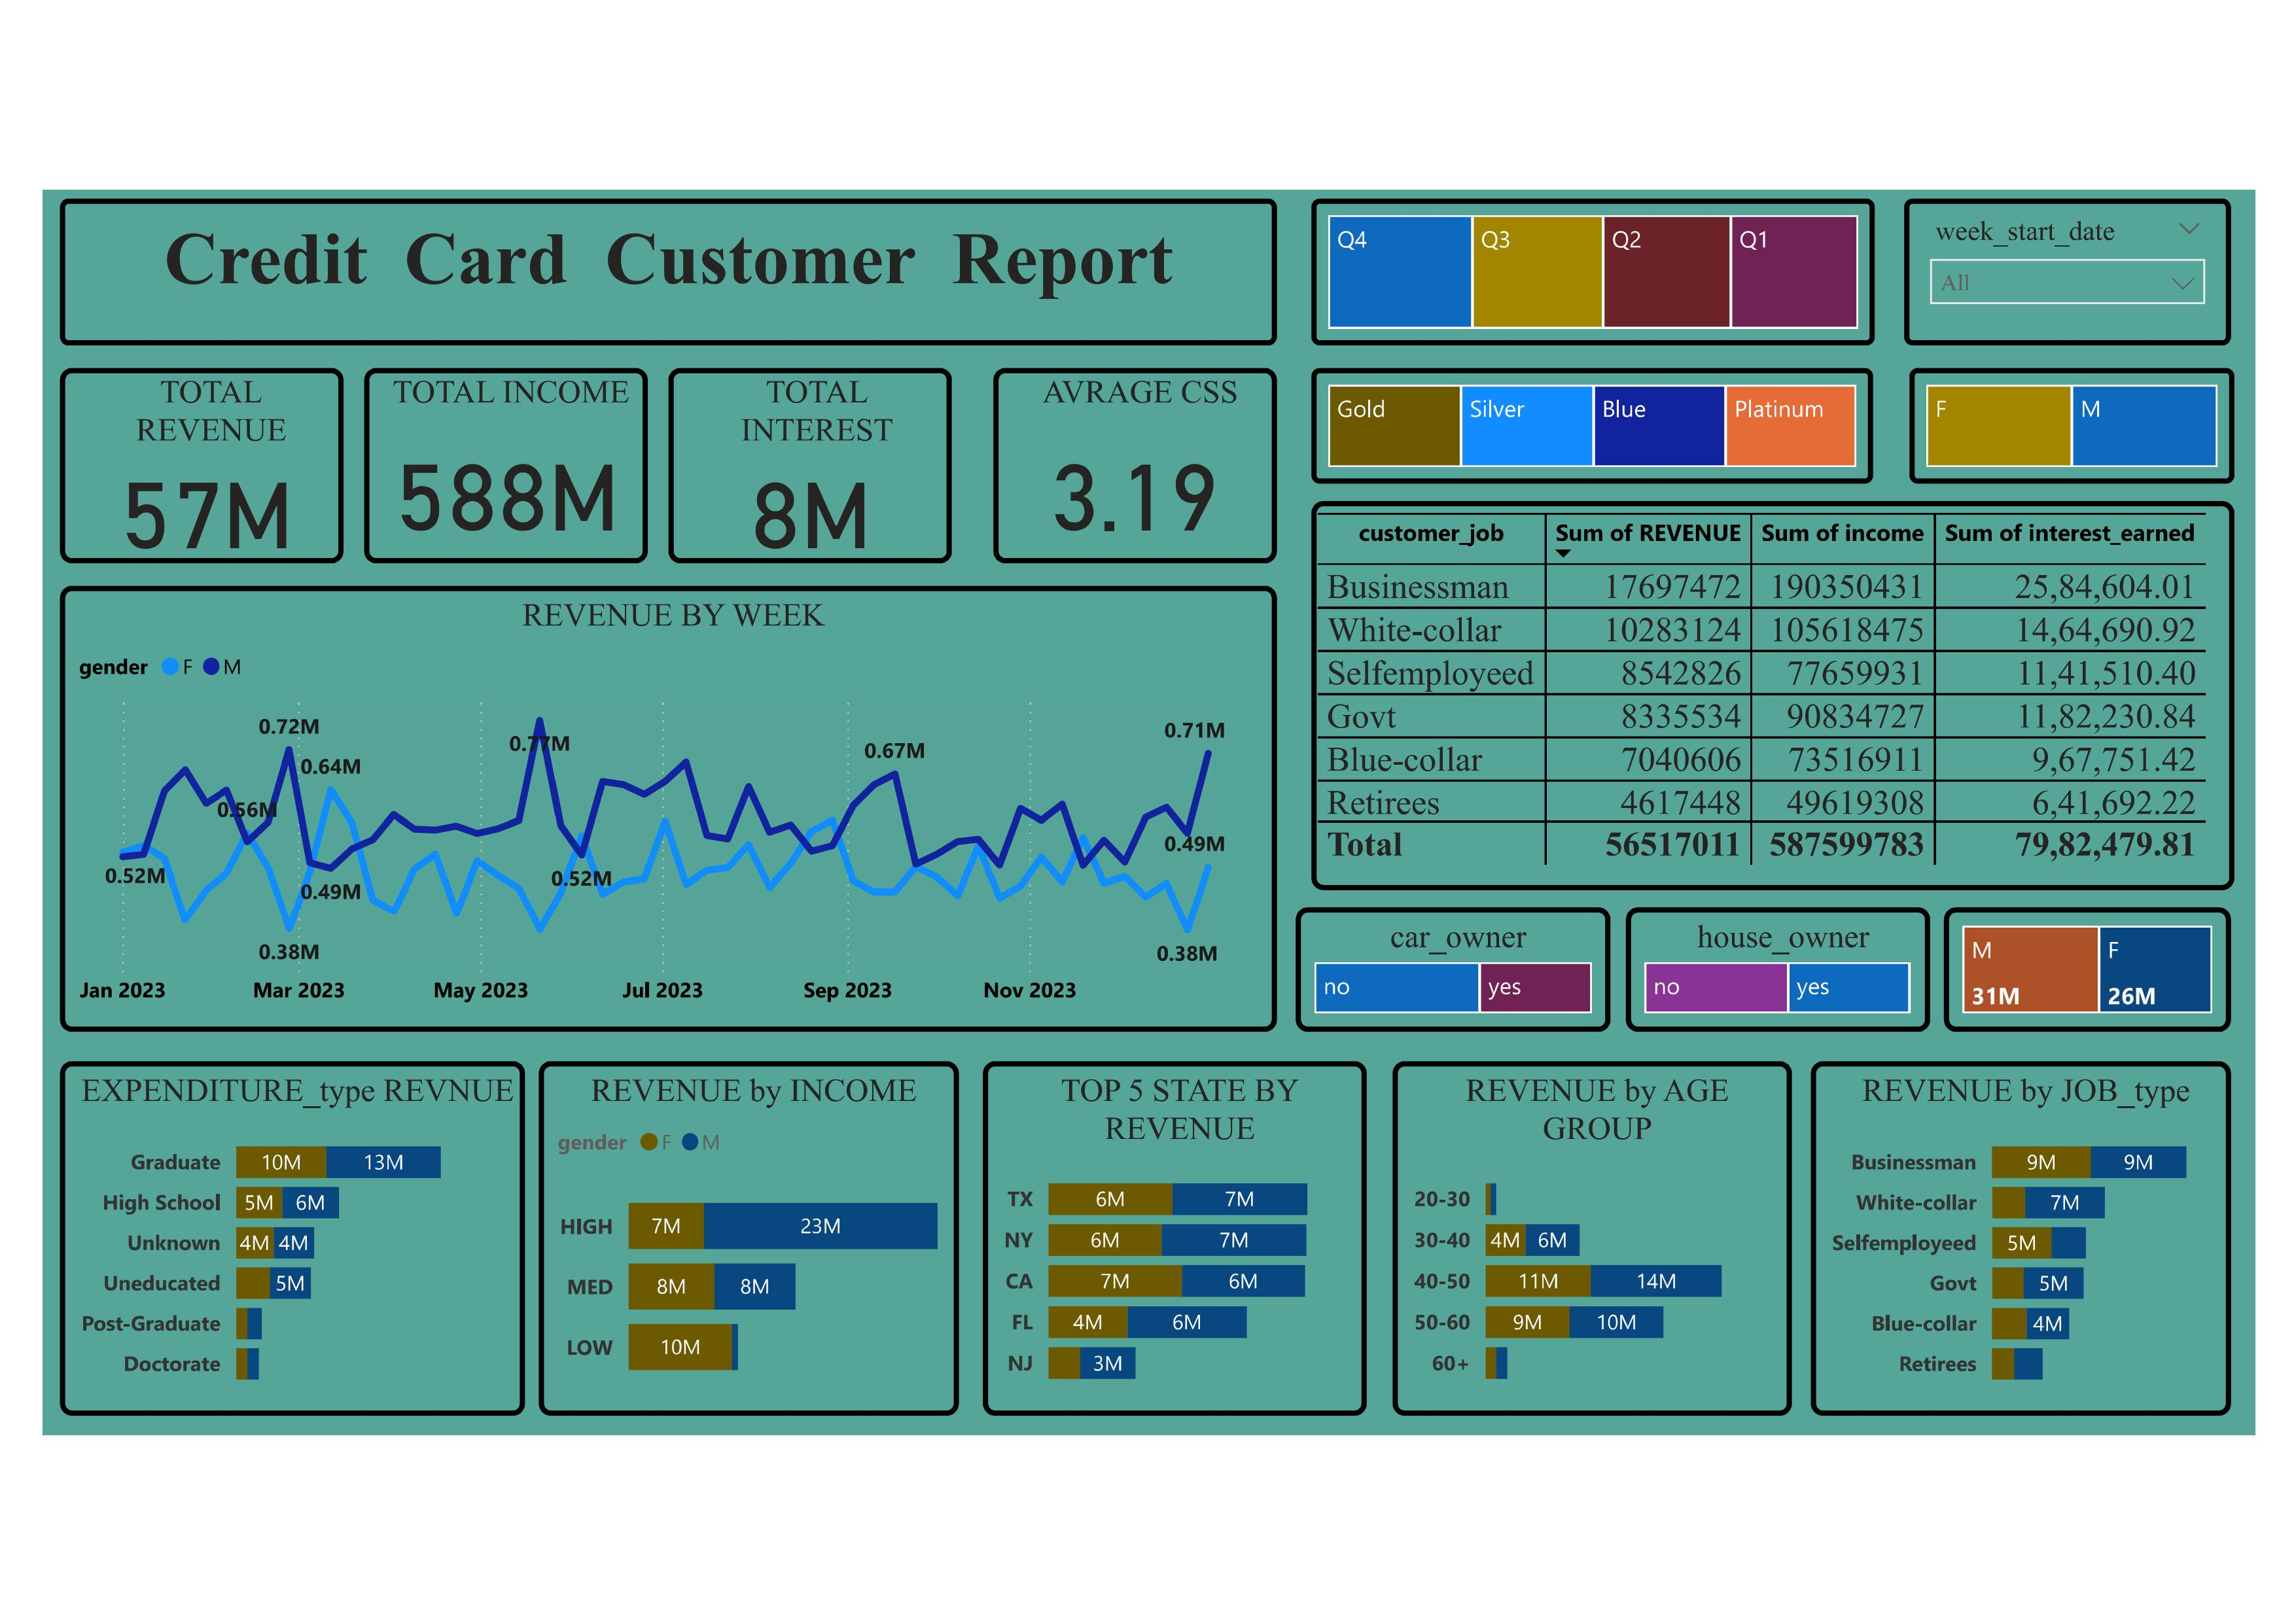

This screenshot's page, from the dashboard's own definition file:
{"tool":"powerbi","page":{"name":"CC_CUSTOMER","canvas":[1280,720],"ordinal":2},"visuals":[{"type":"textbox","box":[9.7,4.8,704.6,85.7],"z":0},{"type":"barChart","title":" REVENUE by INCOME ","fields":{"Category":["public cust_detail.IncomeGroup"],"Y":["Sum(public cc_detail.REVENUE)"],"Series":["public cust_detail.gender"]},"box":[287.1,504.3,242.5,205.1],"z":1000},{"type":"tableEx","fields":{"Values":["public cust_detail.customer_job","Sum(public cc_detail.REVENUE)","Sum(public cust_detail.income)","Sum(public cc_detail.interest_earned)"]},"box":[733.5,179.8,534.5,225.6],"z":2000},{"type":"card","title":"TOTAL REVENUE","fields":{"Values":["Sum(public cc_detail.REVENUE)"]},"box":[9.7,102.5,164.1,113.4],"z":3000},{"type":"card","title":"TOTAL INCOME","fields":{"Values":["Sum(public cust_detail.income)"]},"box":[185.8,102.5,164.1,113.4],"z":4000},{"type":"card","title":"TOTAL      INTEREST","fields":{"Values":["Sum(public cc_detail.interest_earned)"]},"box":[361.9,102.5,164.1,113.4],"z":5000},{"type":"card","title":"AVRAGE    CSS","fields":{"Values":["Avg(public cust_detail.cust_satisfaction_score)"]},"box":[550.1,102.5,164.1,113.4],"z":6000},{"type":"slicer","fields":{"Values":["public cc_detail.week_start_date"]},"box":[1077.4,4.8,188.2,85.7],"z":7000},{"type":"treemap","fields":{"Group":["public cc_detail.qtr"],"Values":["Avg(public cc_detail.client_num)"]},"box":[733.5,4.8,326.9,85.7],"z":8000},{"type":"treemap","fields":{"Values":["Avg(public cc_detail.client_num)"],"Group":["public cust_detail.gender"]},"box":[1079.8,102.5,188.2,67.6],"z":9000},{"type":"treemap","fields":{"Values":["Avg(public cc_detail.client_num)"],"Group":["public cc_detail.card_category"]},"box":[733.5,102.5,325.7,67.6],"z":10000},{"type":"lineChart","title":"REVENUE BY WEEK","fields":{"Y":["Sum(public cc_detail.REVENUE)"],"Series":["public cust_detail.gender"],"Category":["public cc_detail.week_start_date.Variation.Date Hierarchy.Year","public cc_detail.week_start_date.Variation.Date Hierarchy.Month","public cc_detail.week_start_date.Variation.Date Hierarchy.Day"]},"box":[9.7,229.2,704.6,258.2],"z":12000},{"type":"treemap","fields":{"Group":["public cust_detail.gender"],"Values":["Sum(public cc_detail.REVENUE)"]},"box":[1100.3,415,165.3,72.4],"z":13000},{"type":"barChart","title":" REVENUE by AGE GROUP","fields":{"Category":["public cust_detail.AgeGroup"],"Y":["Sum(public cc_detail.REVENUE)"],"Series":["public cust_detail.gender"]},"box":[780.6,504.3,231.6,205.1],"z":14000},{"type":"barChart","title":" REVENUE by JOB_type","fields":{"Category":["public cust_detail.customer_job"],"Y":["Sum(public cc_detail.REVENUE)"],"Series":["public cust_detail.gender"]},"box":[1023.1,504.3,242.5,205.1],"z":15000},{"type":"barChart","title":"EXPENDITURE_type REVNUE","fields":{"Category":["public cust_detail.education_level"],"Y":["Sum(public cc_detail.REVENUE)"],"Series":["public cust_detail.gender"]},"box":[9.7,504.3,269,205.1],"z":16000},{"type":"barChart","title":"TOP 5 STATE BY REVENUE","fields":{"Category":["public cust_detail.state_cd"],"Y":["Sum(public cc_detail.REVENUE)"],"Series":["public cust_detail.gender"]},"box":[544.1,504.3,222,205.1],"z":17000},{"type":"treemap","title":"car_owner","fields":{"Values":["Sum(public cc_detail.REVENUE)"],"Group":["public cust_detail.car_owner"]},"box":[725.1,415,182.2,72.4],"z":18000},{"type":"treemap","title":"house_owner","fields":{"Values":["Sum(public cc_detail.REVENUE)"],"Group":["public cust_detail.house_owner"]},"box":[915.7,415,176.1,72.4],"z":19000}]}

Visuals, with their boxes on the page's 1280x720 design canvas (x1, y1, x2, y2). These are canvas units, not pixel positions in the 2296x1623 screenshot, which may show the page scaled, cropped or inside an application window:
textbox: <box>10,5,714,90</box>
" REVENUE by INCOME " barChart: <box>287,504,530,709</box>
tableEx - public cust_detail.customer_job x Sum(public cc_detail.REVENUE): <box>734,180,1268,405</box>
"TOTAL REVENUE" card: <box>10,102,174,216</box>
"TOTAL INCOME" card: <box>186,102,350,216</box>
"TOTAL      INTEREST" card: <box>362,102,526,216</box>
"AVRAGE    CSS" card: <box>550,102,714,216</box>
slicer - public cc_detail.week_start_date: <box>1077,5,1266,90</box>
treemap - public cc_detail.qtr x Avg(public cc_detail.client_num): <box>734,5,1060,90</box>
treemap - Avg(public cc_detail.client_num) x public cust_detail.gender: <box>1080,102,1268,170</box>
treemap - Avg(public cc_detail.client_num) x public cc_detail.card_category: <box>734,102,1059,170</box>
"REVENUE BY WEEK" lineChart: <box>10,229,714,487</box>
treemap - public cust_detail.gender x Sum(public cc_detail.REVENUE): <box>1100,415,1266,487</box>
" REVENUE by AGE GROUP" barChart: <box>781,504,1012,709</box>
" REVENUE by JOB_type" barChart: <box>1023,504,1266,709</box>
"EXPENDITURE_type REVNUE" barChart: <box>10,504,279,709</box>
"TOP 5 STATE BY REVENUE" barChart: <box>544,504,766,709</box>
"car_owner" treemap: <box>725,415,907,487</box>
"house_owner" treemap: <box>916,415,1092,487</box>
